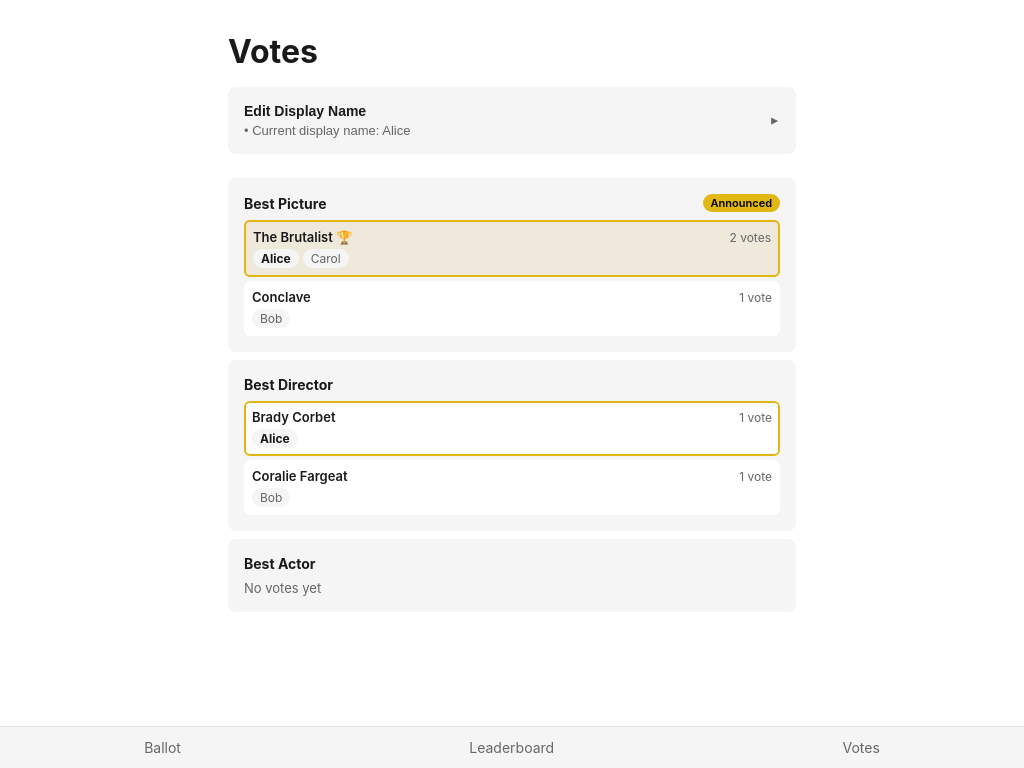
Test: Votes page › renders the name input when expanded
Step 1. Click the button "Edit Display Name • Current display name: Alice ▼" → (305, 111), box x1=228 y1=87 x2=796 y2=154
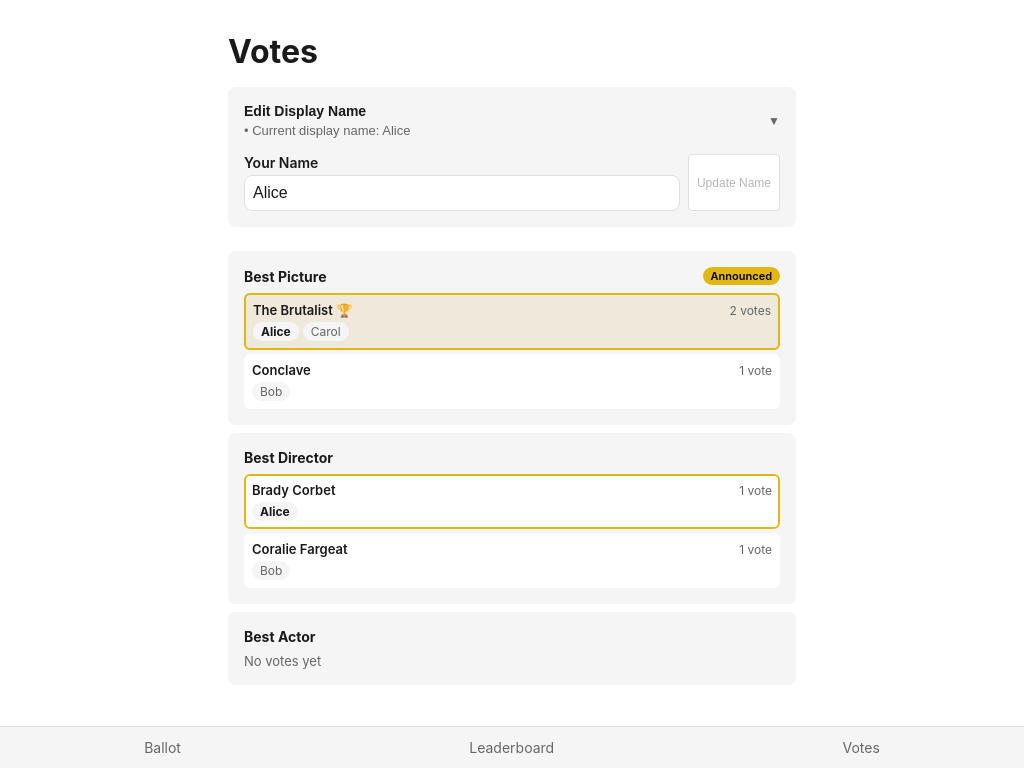
Check: the field holds "Alice", box x1=244 y1=175 x2=680 y2=211
